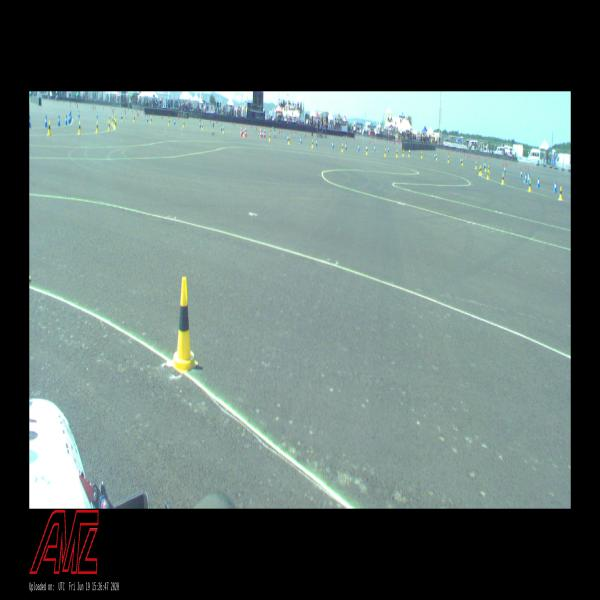blue_cone: (527, 172, 530, 184), (524, 172, 527, 183), (537, 177, 540, 188), (554, 181, 557, 192), (29, 116, 31, 127), (45, 116, 47, 127), (58, 115, 60, 126), (66, 114, 68, 124), (68, 115, 70, 123), (520, 170, 522, 178)
large_orange_cone: (264, 126, 266, 138), (245, 125, 247, 137), (260, 126, 261, 137), (241, 125, 242, 136)
yellow_cone: (171, 277, 198, 374), (47, 120, 51, 136), (78, 121, 81, 135), (528, 179, 531, 192), (559, 187, 562, 200), (114, 119, 117, 129), (113, 117, 116, 126), (96, 121, 98, 133), (484, 164, 487, 172), (108, 120, 110, 131), (487, 169, 489, 180), (479, 166, 481, 176), (502, 174, 504, 184), (222, 126, 224, 134), (269, 133, 271, 141), (288, 136, 290, 144), (112, 117, 114, 124), (133, 115, 135, 122), (242, 129, 244, 136), (150, 117, 152, 123), (202, 124, 204, 130), (312, 140, 313, 148)
